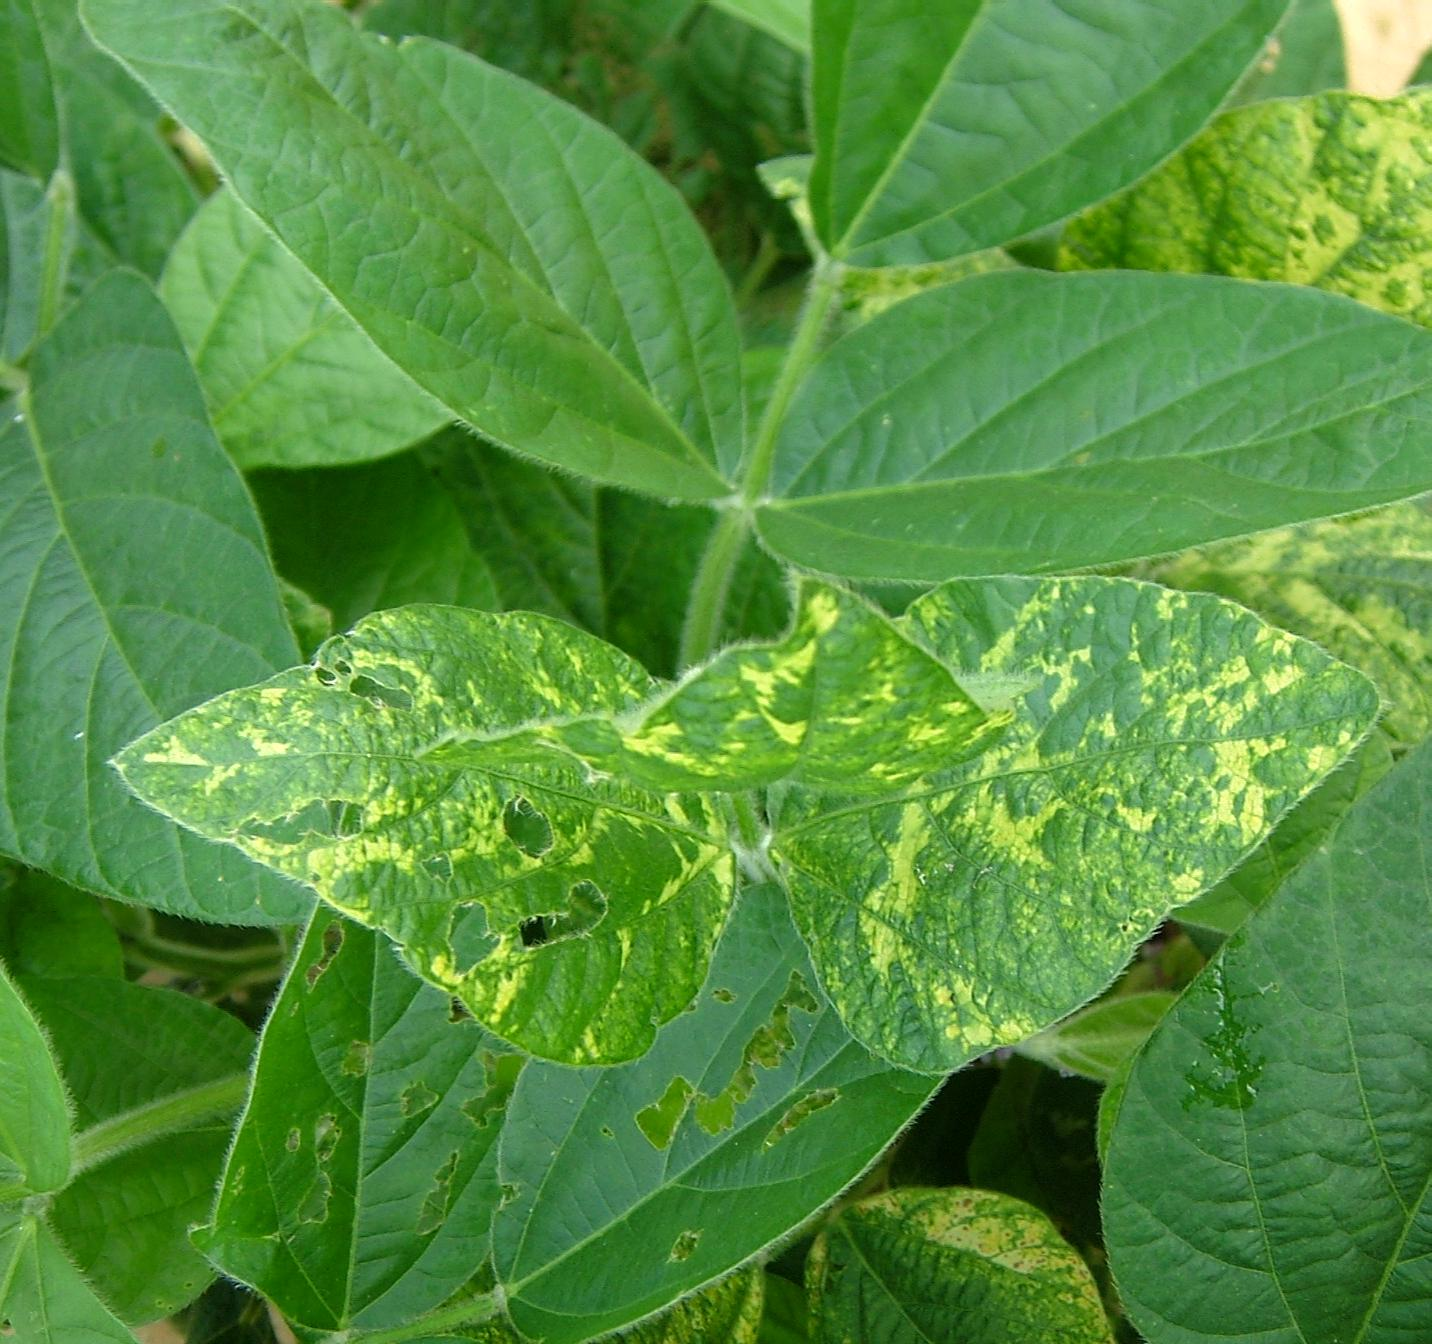Tomato leaf: (754, 256, 1432, 587)
Tomato leaf mosaic virus: (109, 577, 736, 1074), (778, 597, 1350, 1057)
